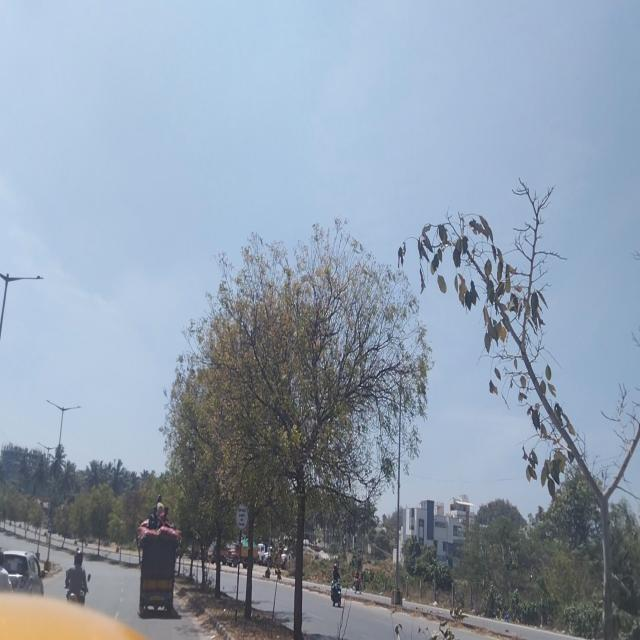bien_cam: (235, 502, 249, 530)
